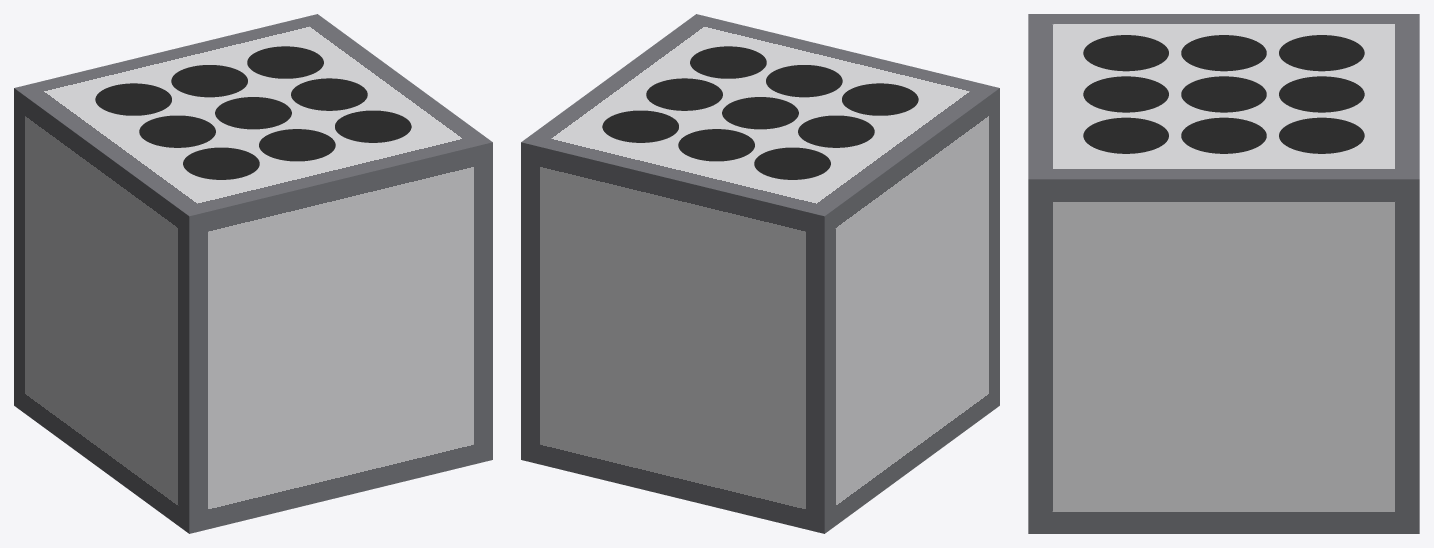
The model's file is SueloTrampa.fbx.
3 renders of one model, left to right at view 1: azimuth 30°, elevation 25°; view 2: azimuth 150°, elevation 25°; view 3: azimuth 270°, elevation 25°, orthographic. The views are drawn at different scales.
Parts seen in each view (by area): view 1: mesh, circle, circle_2, circle_8, circle_5, circle_3, circle_6, circle_7, circle_1, circle_4; view 2: mesh, circle, circle_2, circle_5, circle_8, circle_3, circle_4, circle_6, circle_1, circle_7; view 3: mesh, circle_1, circle_4, circle_7, circle_5, circle_8, circle, circle_3, circle_6, circle_2.
Part boxes in pixels (x1=…): mesh: x1=14, y1=14, x2=492, y2=533; circle: x1=291, y1=78, x2=367, y2=110; circle_2: x1=139, y1=115, x2=215, y2=147; circle_8: x1=183, y1=147, x2=259, y2=179; circle_5: x1=95, y1=83, x2=171, y2=115; circle_3: x1=247, y1=46, x2=323, y2=78; circle_6: x1=335, y1=110, x2=411, y2=142; circle_7: x1=259, y1=129, x2=335, y2=161; circle_1: x1=215, y1=97, x2=291, y2=129; circle_4: x1=171, y1=65, x2=247, y2=97; mesh: x1=521, y1=14, x2=999, y2=533; circle: x1=646, y1=78, x2=722, y2=110; circle_2: x1=798, y1=115, x2=874, y2=147; circle_5: x1=754, y1=147, x2=830, y2=179; circle_8: x1=842, y1=83, x2=918, y2=115; circle_3: x1=602, y1=110, x2=678, y2=142; circle_4: x1=678, y1=129, x2=754, y2=161; circle_6: x1=690, y1=46, x2=766, y2=78; circle_1: x1=722, y1=97, x2=798, y2=129; circle_7: x1=766, y1=65, x2=842, y2=97; mesh: x1=1028, y1=14, x2=1419, y2=533; circle_1: x1=1181, y1=76, x2=1266, y2=112; circle_4: x1=1279, y1=76, x2=1364, y2=112; circle_7: x1=1083, y1=76, x2=1168, y2=112; circle_5: x1=1279, y1=35, x2=1364, y2=71; circle_8: x1=1083, y1=35, x2=1168, y2=71; circle: x1=1181, y1=117, x2=1266, y2=153; circle_3: x1=1279, y1=117, x2=1364, y2=153; circle_6: x1=1083, y1=117, x2=1168, y2=153; circle_2: x1=1181, y1=35, x2=1266, y2=71.
Bounding box in the file's own units: 100 × 101 × 100.
Materials: 1 (1 with a texture image).
